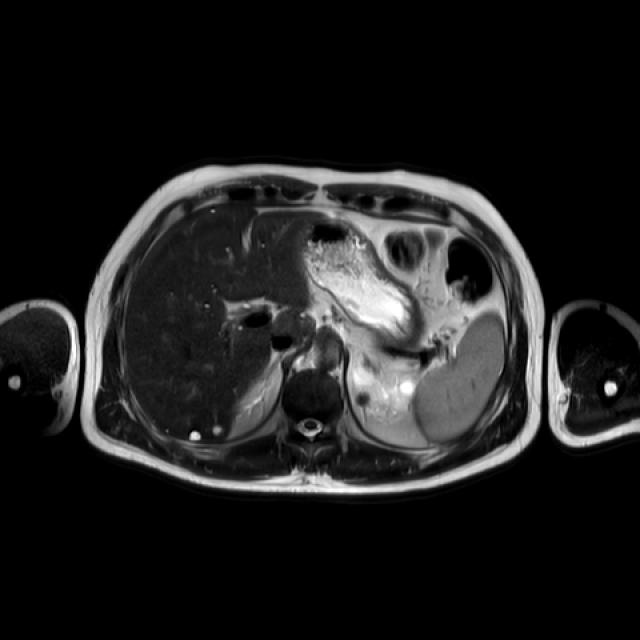sol: (353, 364, 415, 421)
